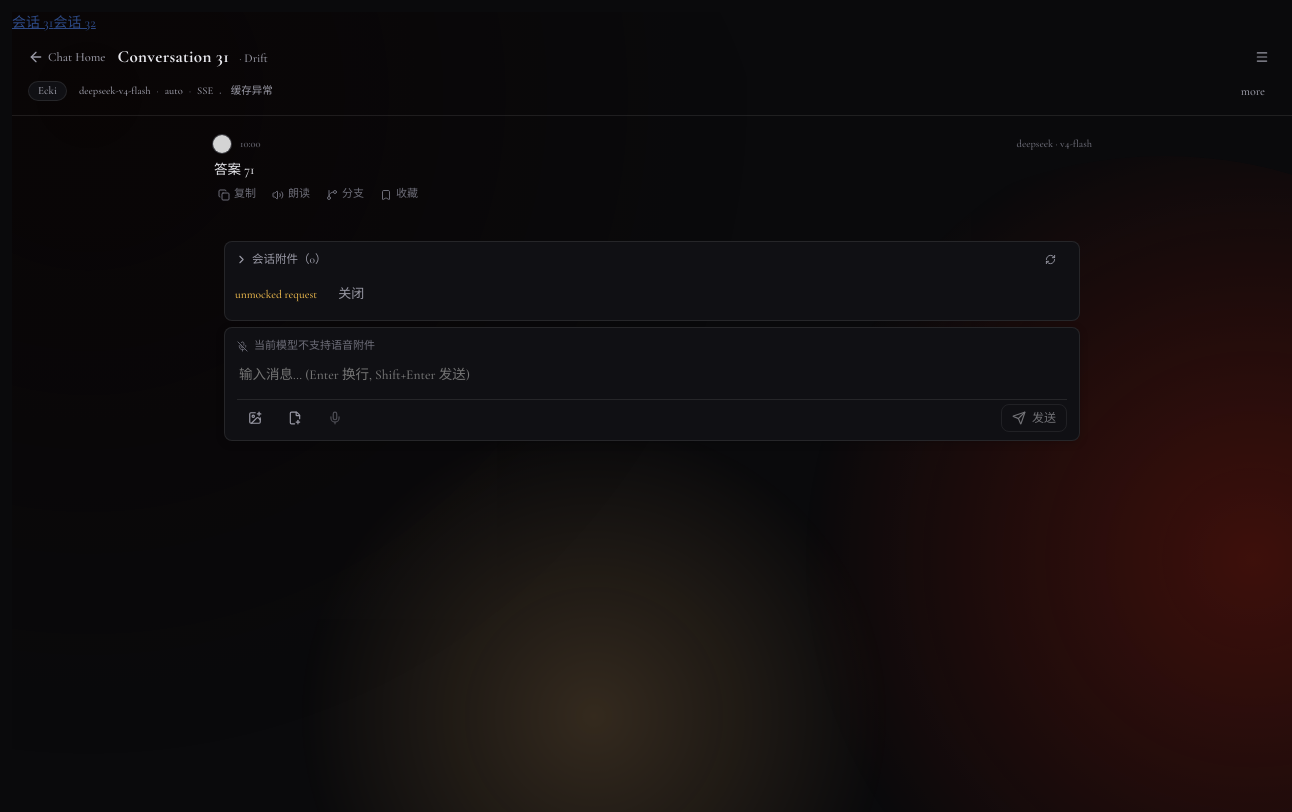
Test case: P2T CP3 — route identity and non-destructive reconciliation (T9) › cannot write or play route A's late terminal response into route B
Step 1. Click the button with aria-label "朗读此条消息" → (291, 195), box top-left (266, 184), bottom-right (316, 205)
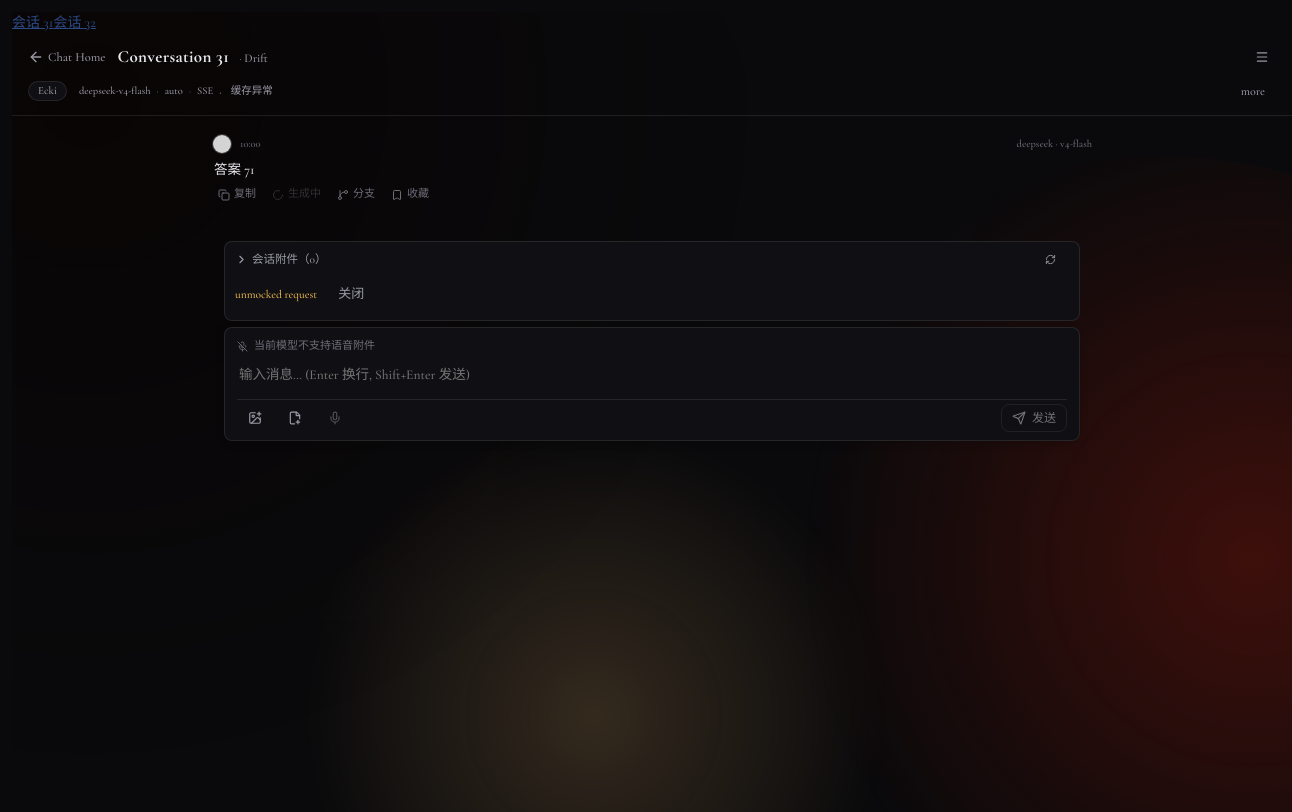
Check: the button with aria-label "语音生成中" is shown, box top-left (266, 184), bottom-right (327, 205)
Step 2. Click the link "会话 32" → (75, 22), box top-left (53, 14), bottom-right (96, 31)
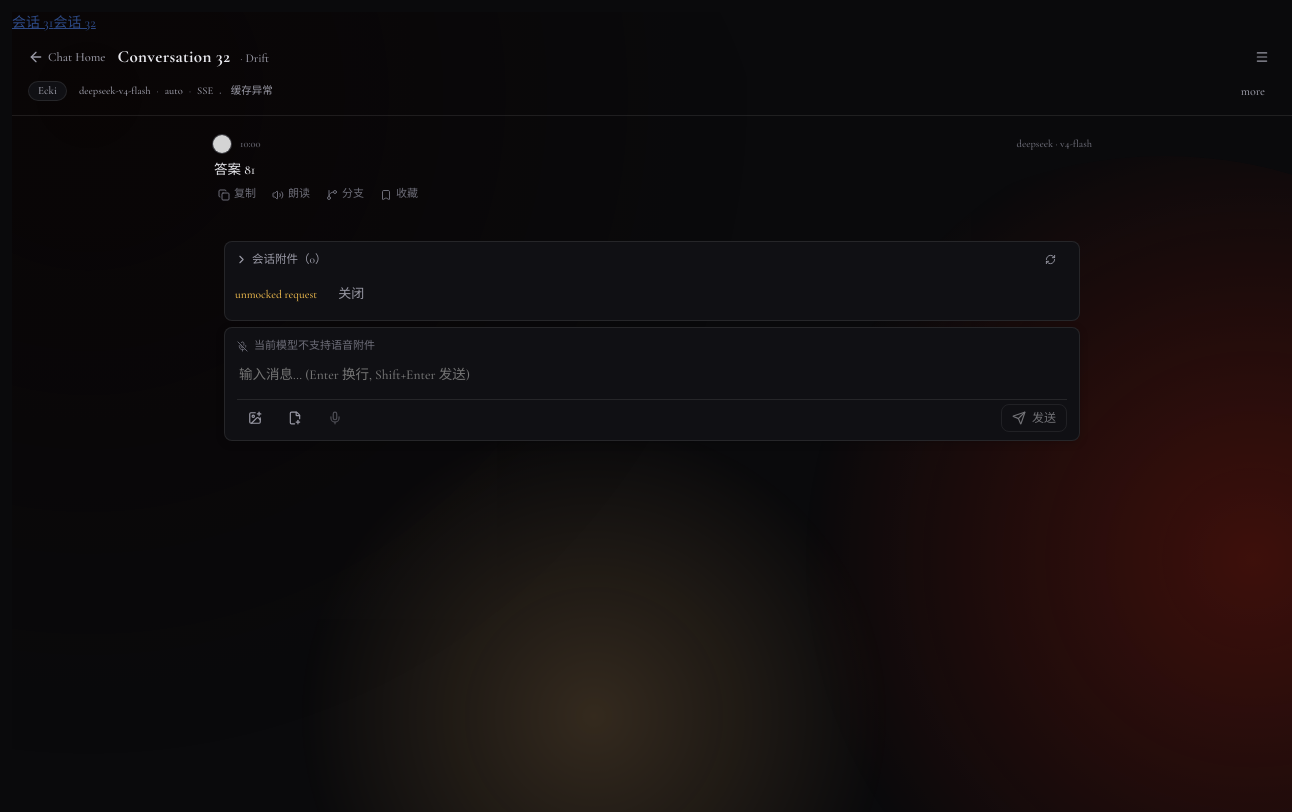
Check: the text "答案 81" is shown, box top-left (214, 162), bottom-right (255, 178)
Check: the button with aria-label "朗读此条消息" is shown, box top-left (266, 184), bottom-right (316, 205)
